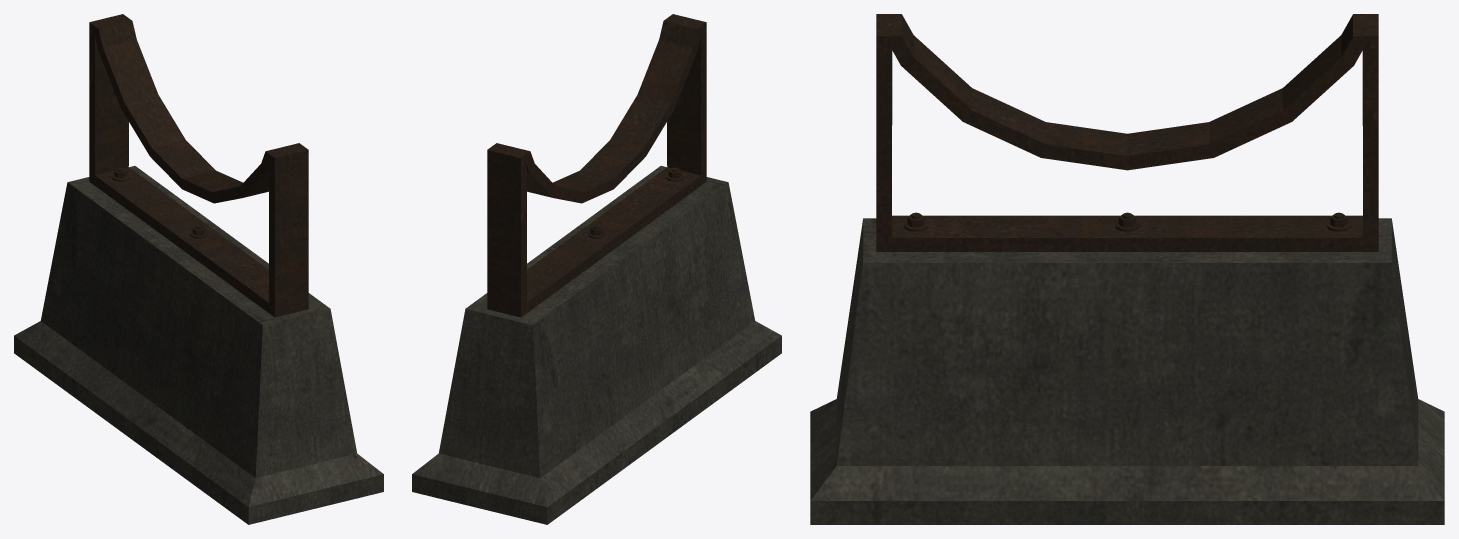
The model's file is stand_mx_2.obj.
3 views of the same model, side by side, from view 1: azimuth 30°, elevation 25°; view 2: azimuth 150°, elevation 25°; view 3: azimuth 270°, elevation 25° (orthographic). The views are drawn at different scales.
Parts seen in each view (by area): view 1: stand_mx_2; view 2: stand_mx_2; view 3: stand_mx_2.
Boxes of the visible parts, x1,y1,x2,y2 form: stand_mx_2: [14, 14, 383, 524]; stand_mx_2: [412, 14, 781, 524]; stand_mx_2: [810, 14, 1444, 524].
Bounding box in the file's own units: 0.8 × 1.9 × 2.4.
